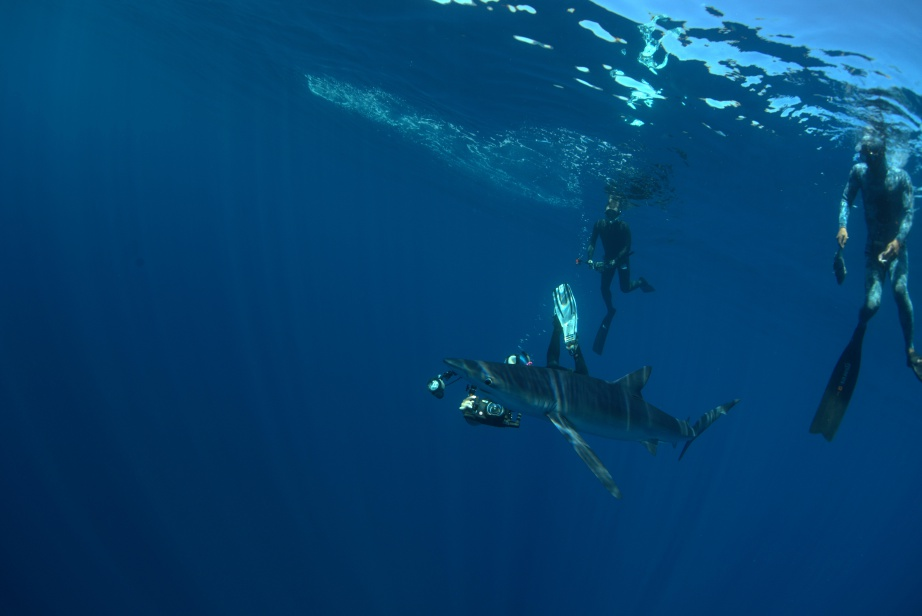Azul: (421, 316, 763, 506)
